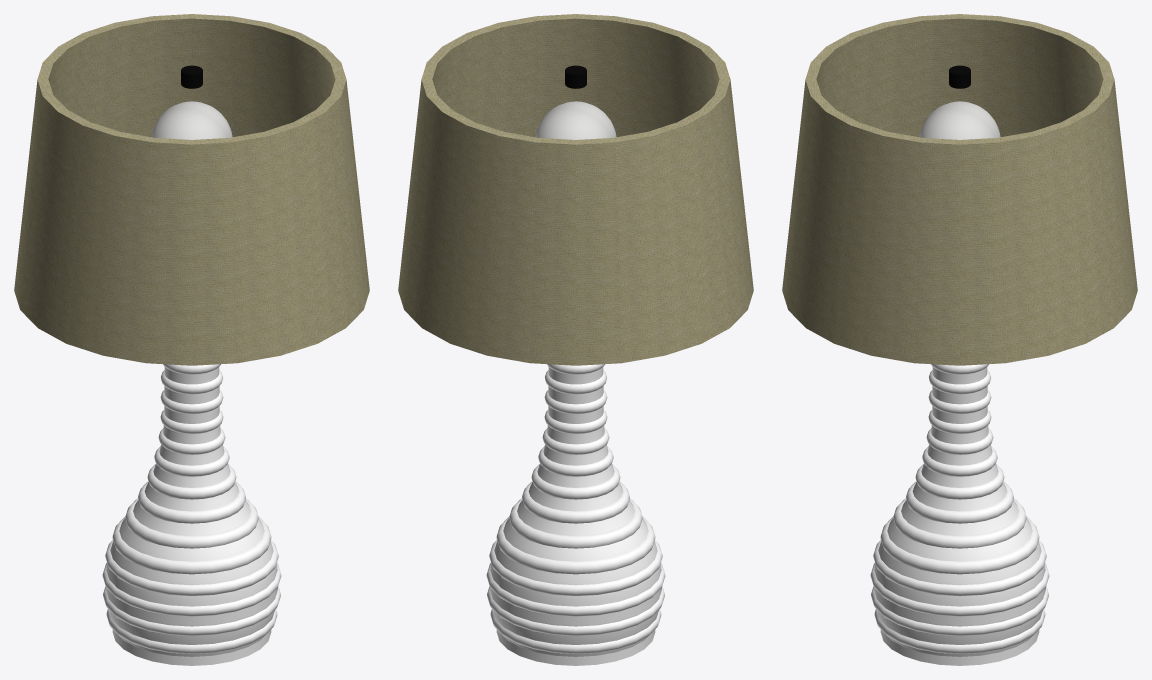
The model's file is livingroom_littletablelight.obj.
3 views of the same model, side by side, from view 1: azimuth 30°, elevation 25°; view 2: azimuth 150°, elevation 25°; view 3: azimuth 270°, elevation 25° (orthographic).
Parts seen in each view (by area): view 1: Mesh3 G_21in_Zip_C_Lamp1 G_21in_ZipC_Lamp_WF1 Model, Mesh1 G_21in_Zip_C_Lamp1 G_21in_ZipC_Lamp_WF1 Model, Mesh2 G_21in_Zip_C_Lamp1 G_21in_ZipC_Lamp_WF1 Model; view 2: Mesh3 G_21in_Zip_C_Lamp1 G_21in_ZipC_Lamp_WF1 Model, Mesh1 G_21in_Zip_C_Lamp1 G_21in_ZipC_Lamp_WF1 Model, Mesh2 G_21in_Zip_C_Lamp1 G_21in_ZipC_Lamp_WF1 Model; view 3: Mesh3 G_21in_Zip_C_Lamp1 G_21in_ZipC_Lamp_WF1 Model, Mesh1 G_21in_Zip_C_Lamp1 G_21in_ZipC_Lamp_WF1 Model, Mesh2 G_21in_Zip_C_Lamp1 G_21in_ZipC_Lamp_WF1 Model.
Boxes of the visible parts, x1,y1,x2,y2 form: Mesh3 G_21in_Zip_C_Lamp1 G_21in_ZipC_Lamp_WF1 Model: (14,14,369,365); Mesh1 G_21in_Zip_C_Lamp1 G_21in_ZipC_Lamp_WF1 Model: (102,364,281,665); Mesh2 G_21in_Zip_C_Lamp1 G_21in_ZipC_Lamp_WF1 Model: (151,101,232,139); Mesh3 G_21in_Zip_C_Lamp1 G_21in_ZipC_Lamp_WF1 Model: (398,14,753,365); Mesh1 G_21in_Zip_C_Lamp1 G_21in_ZipC_Lamp_WF1 Model: (486,364,665,665); Mesh2 G_21in_Zip_C_Lamp1 G_21in_ZipC_Lamp_WF1 Model: (535,101,616,139); Mesh3 G_21in_Zip_C_Lamp1 G_21in_ZipC_Lamp_WF1 Model: (782,14,1137,365); Mesh1 G_21in_Zip_C_Lamp1 G_21in_ZipC_Lamp_WF1 Model: (870,364,1049,665); Mesh2 G_21in_Zip_C_Lamp1 G_21in_ZipC_Lamp_WF1 Model: (919,101,1000,139).
Bounding box in the file's own units: 0.3109 × 0.5421 × 0.3109.
5 materials, 1 textured.
